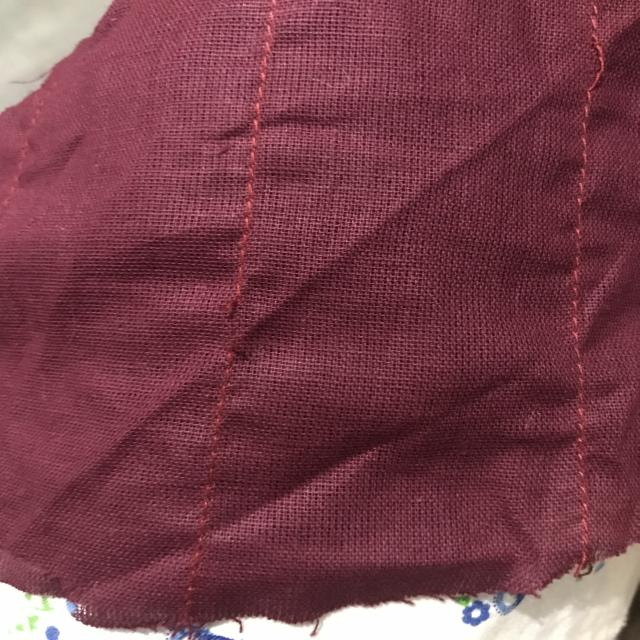broken: (191, 282, 268, 364)
good: (234, 119, 278, 240), (564, 179, 586, 313)
